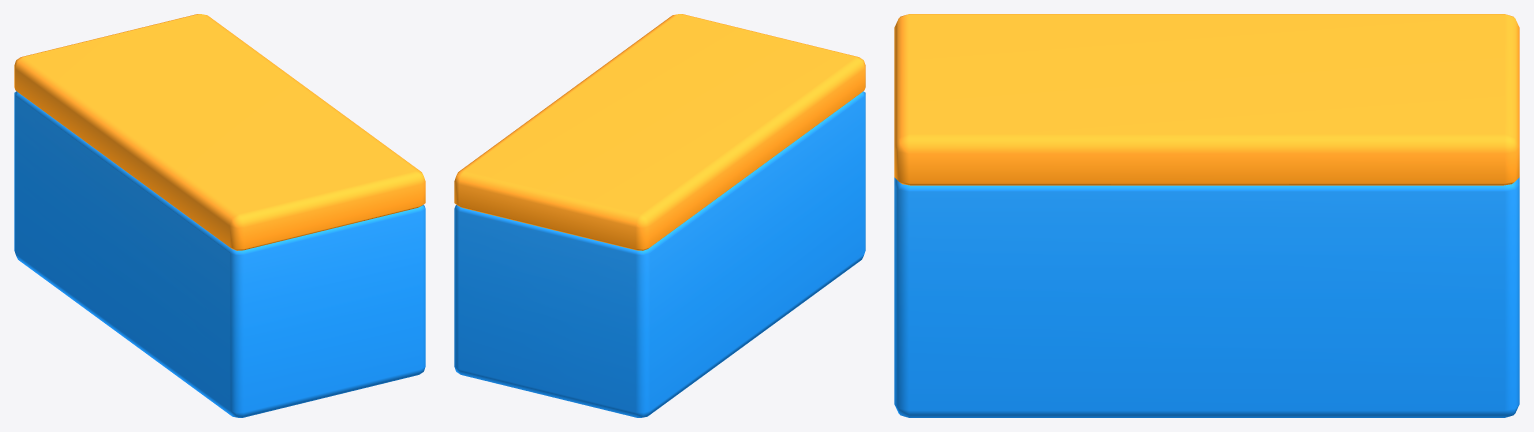
Rendered from Platform_21.glb.
The picture shows the model from 3 angles, left to right: view 1: azimuth 30°, elevation 25°; view 2: azimuth 150°, elevation 25°; view 3: azimuth 270°, elevation 25°; orthographic projection. The views are drawn at different scales.
Parts seen in each view (by area): view 1: Platform_21; view 2: Platform_21; view 3: Platform_21.
Boxes of the visible parts, x1=… form: Platform_21: x1=14, y1=14, x2=425, y2=417; Platform_21: x1=454, y1=14, x2=865, y2=417; Platform_21: x1=894, y1=14, x2=1519, y2=417.
Size of the model in its own units: 6 by 6 by 12.
1 material, 1 textured.
